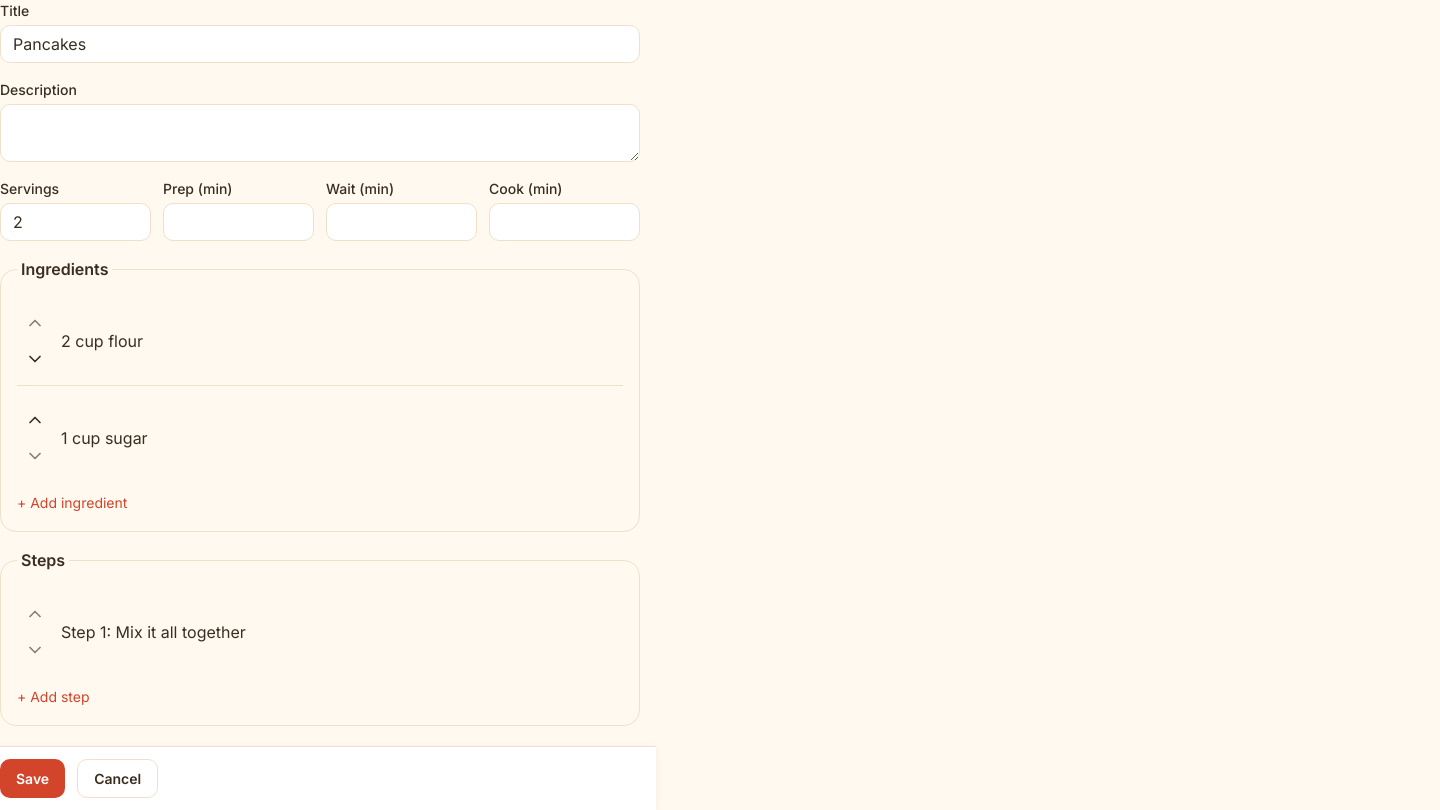
Test: RecipeForm › drag-reorder › still opens the correct ingredient in the drawer after a reorder (click-to-edit identity)
Expected: the element showing "Ingredients 2 cup flour 1 cup sugar + Add ingredient" is shown, [0,257,640,532]
Click the button named "Move down" next to "2 cup flour". click: (35, 359)
box: [17,341,53,377]
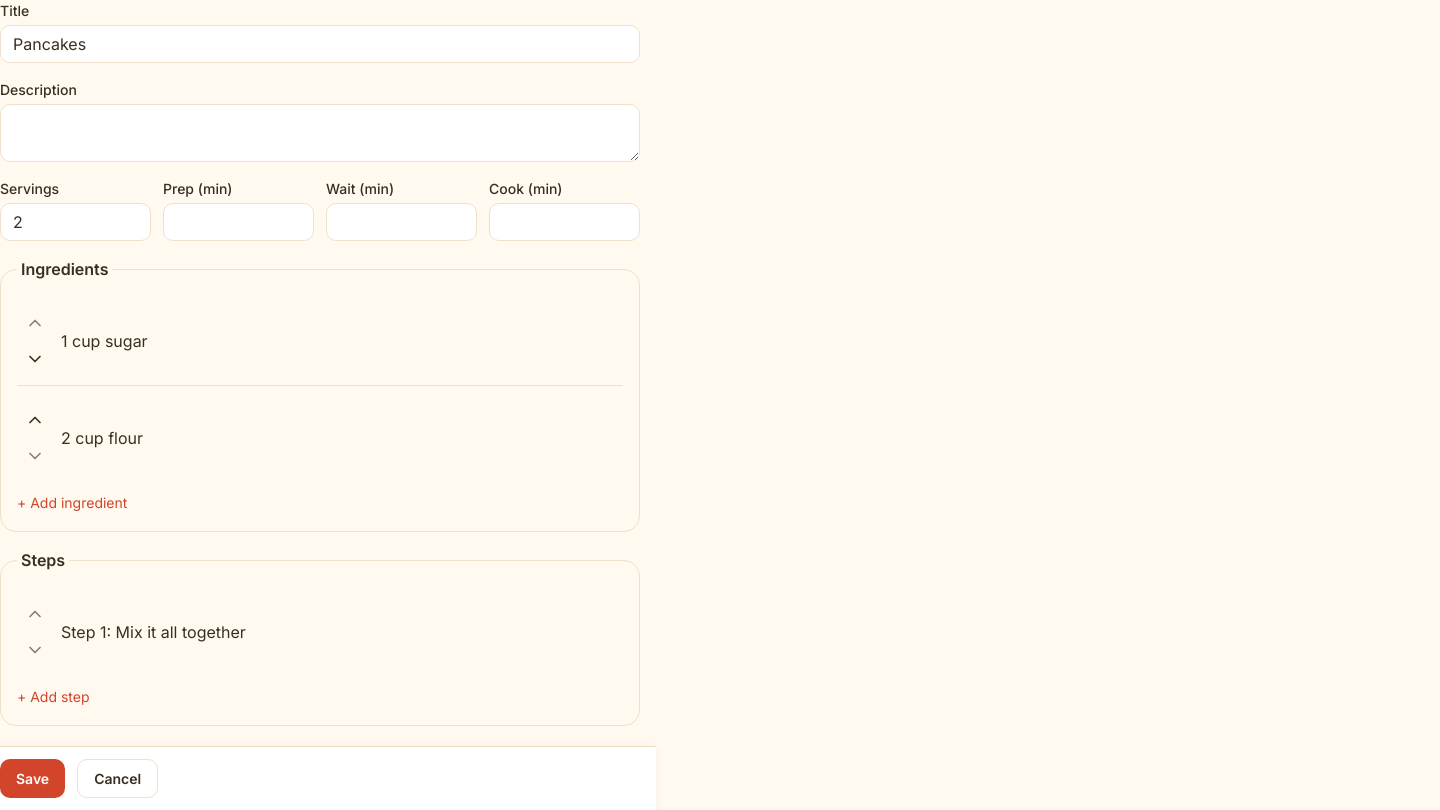
# Click what is now the first row's content (should be "sugar").
Click the text with class "recipe-form__list-item" showing "1 cup sugar". click: (104, 341)
box: [61,331,148,351]
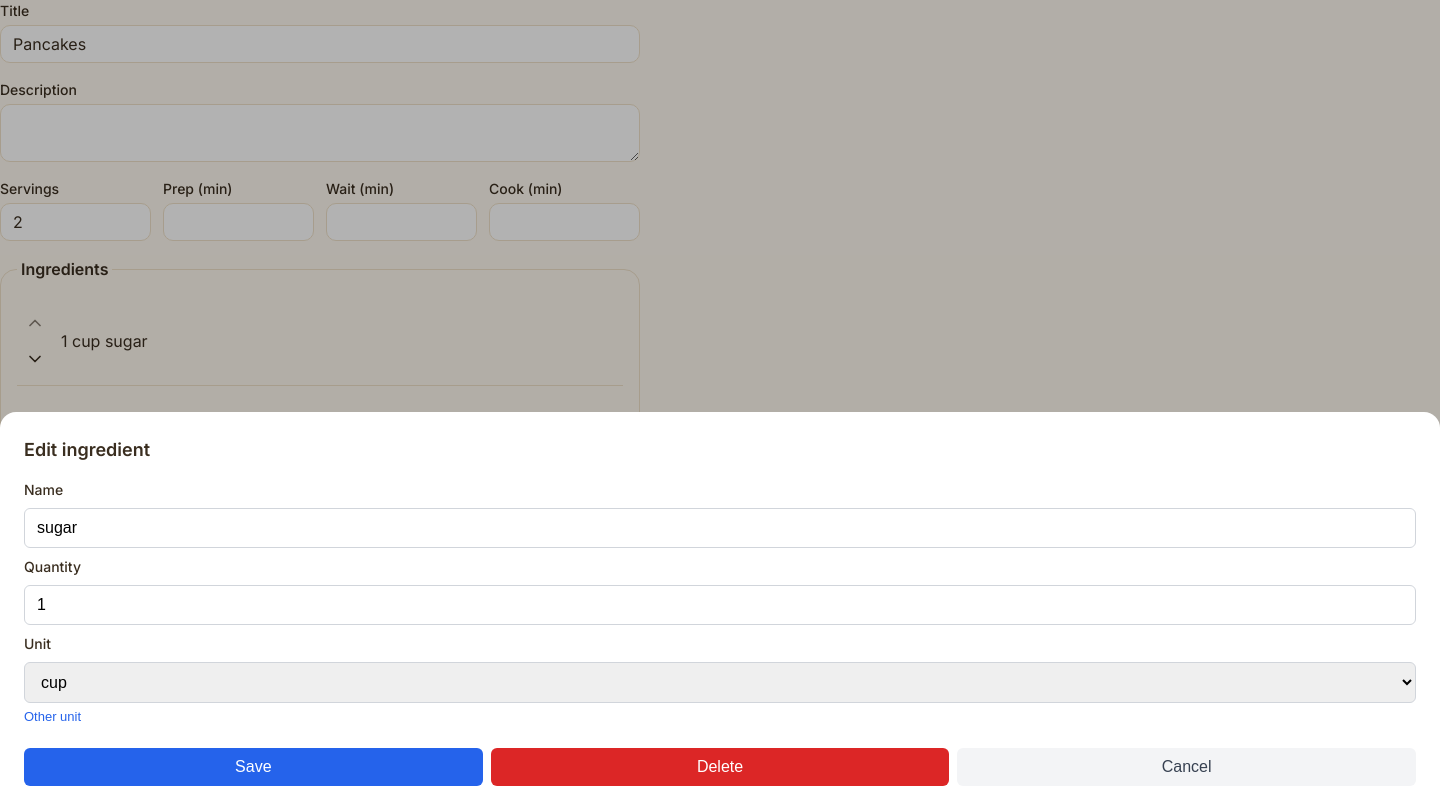
Result: the element that starts with "Edit ingredient" is shown
